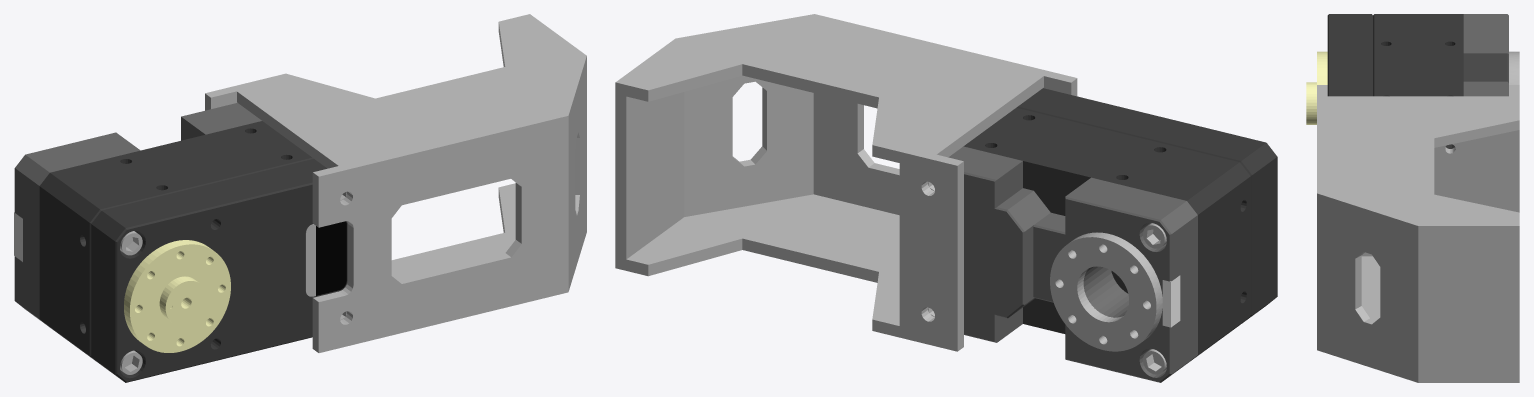
The model's file is ARMlower.obj.
3 renders of one model, left to right at view 1: azimuth 30°, elevation 25°; view 2: azimuth 150°, elevation 25°; view 3: azimuth 270°, elevation 25°, orthographic. The views are drawn at different scales.
Size of the model in its own units: 10.05 by 3.25 by 4.
